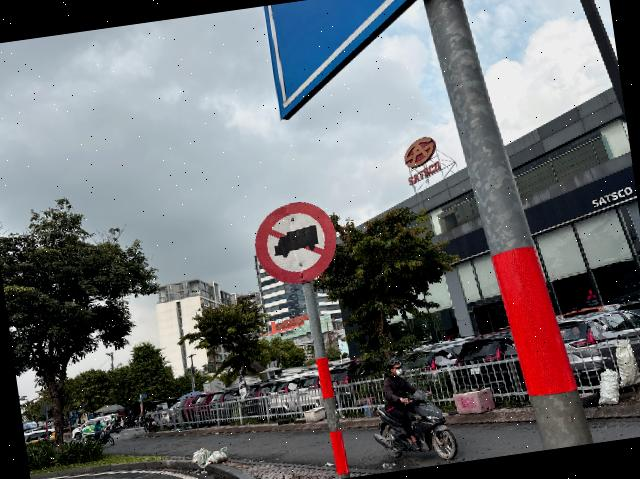cam-xe-tai: (250, 197, 342, 289)
